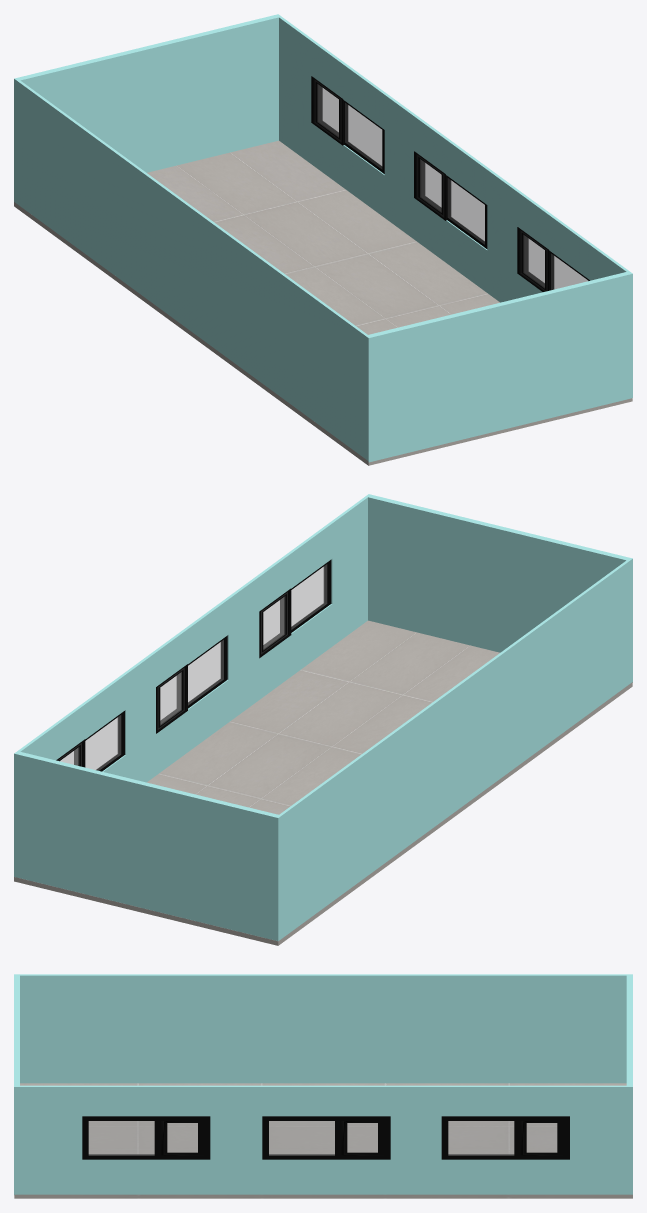
Rendered from ruanganlagiii (1).fbx.
3 renders of one model, top to bottom at view 1: azimuth 30°, elevation 25°; view 2: azimuth 150°, elevation 25°; view 3: azimuth 270°, elevation 25°, orthographic. The views are drawn at different scales.
Parts seen in each view (by area): view 1: lantai; view 2: lantai; view 3: lantai.
Part boxes in pixels (x1,y1,x2,y2): lantai: (14,14,632,465); lantai: (14,494,632,945); lantai: (14,974,632,1198).
Size of the model in its own units: 1658 by 760 by 3824.
Materials: 4 (1 with a texture image).
